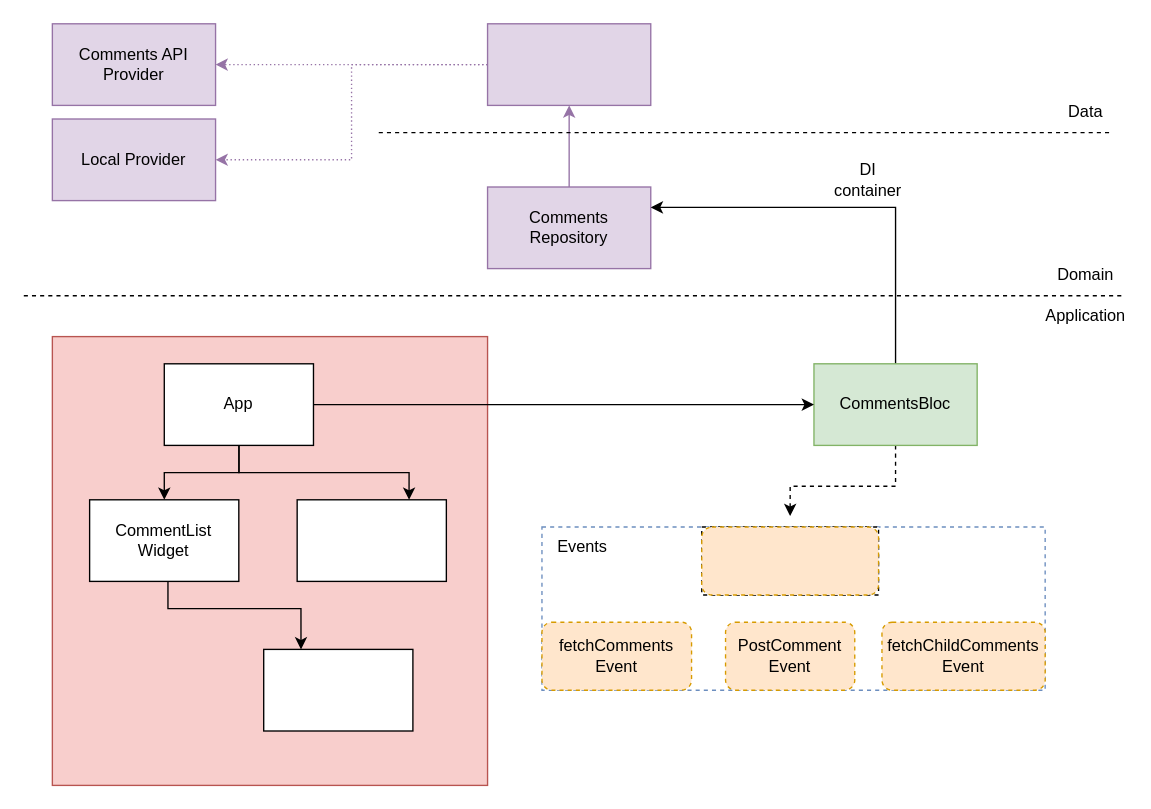
Some shapes in this 1151 by 809 pixel diagram are drawn without their labels. The centre of each missing label's shape, as x and y in pixels:
CommenItem Widget: (x=337, y=689)
Comments Provider: (x=568, y=63)
CommentsBloc Event: (x=789, y=560)
CommentsForm Widget: (x=371, y=539)
